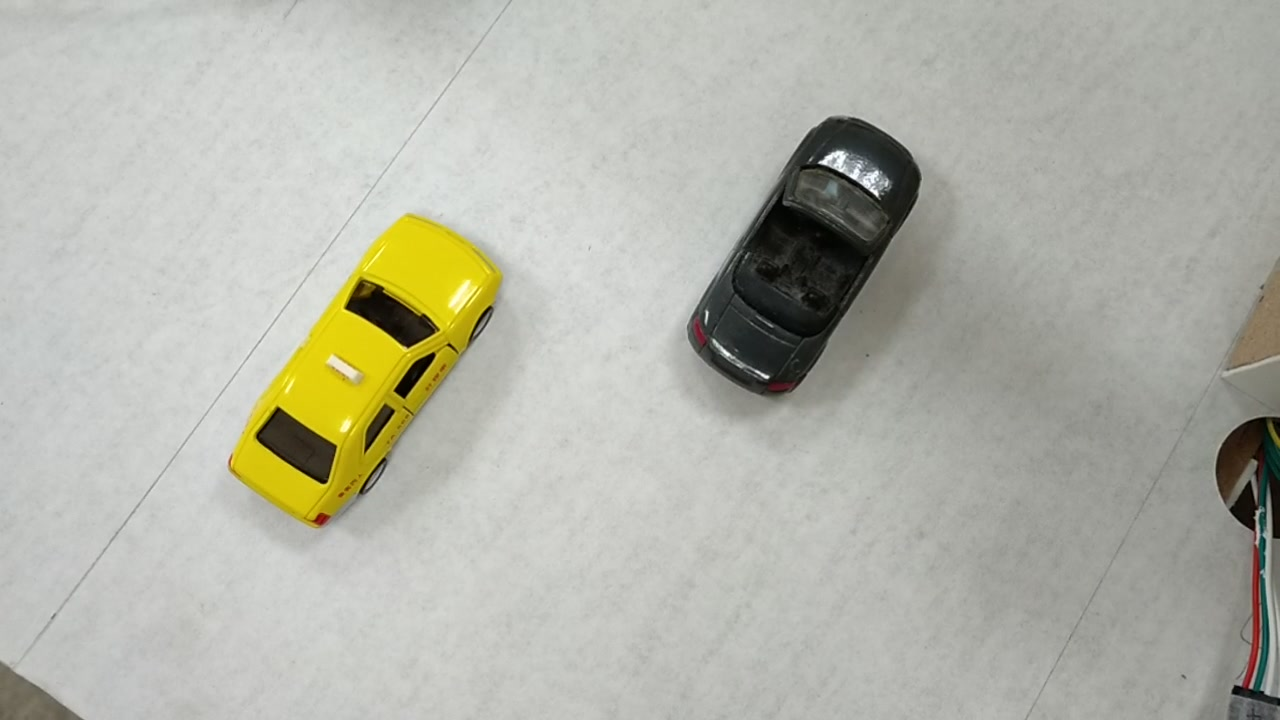car: (228, 219, 515, 547), (691, 126, 927, 395)
